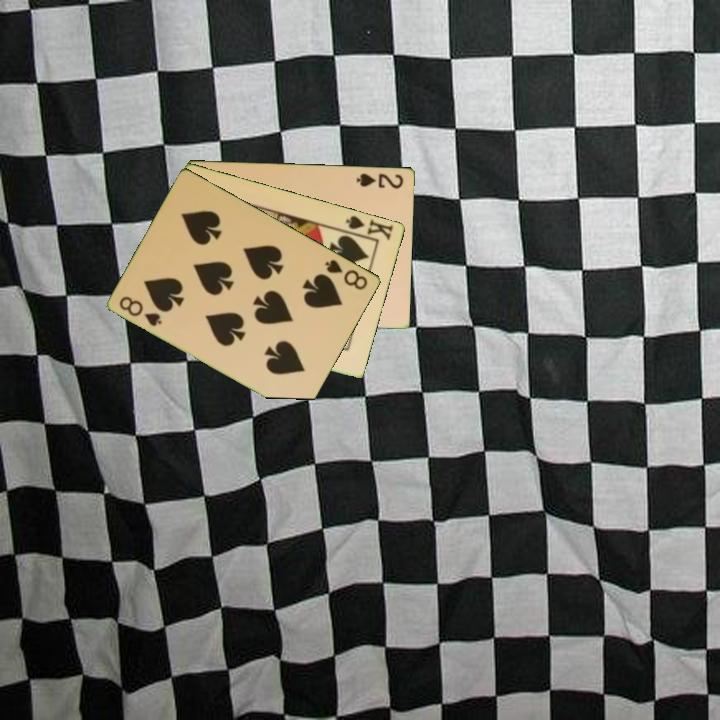2s: (353, 169, 406, 191)
8s: (322, 256, 371, 293), (116, 292, 165, 329)
Ks: (342, 212, 397, 243)
